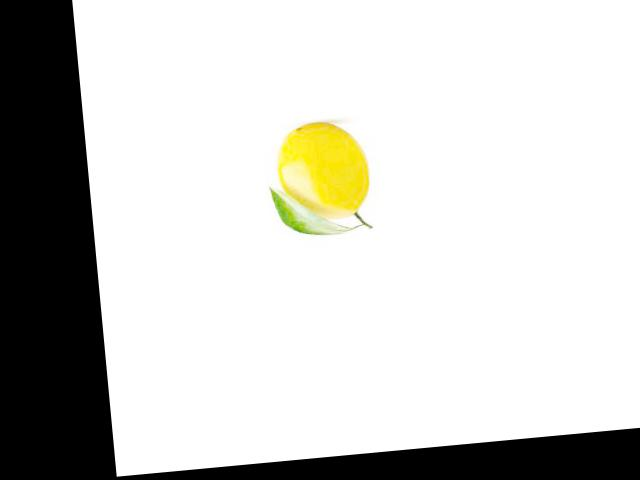lemon: (274, 116, 380, 230)
